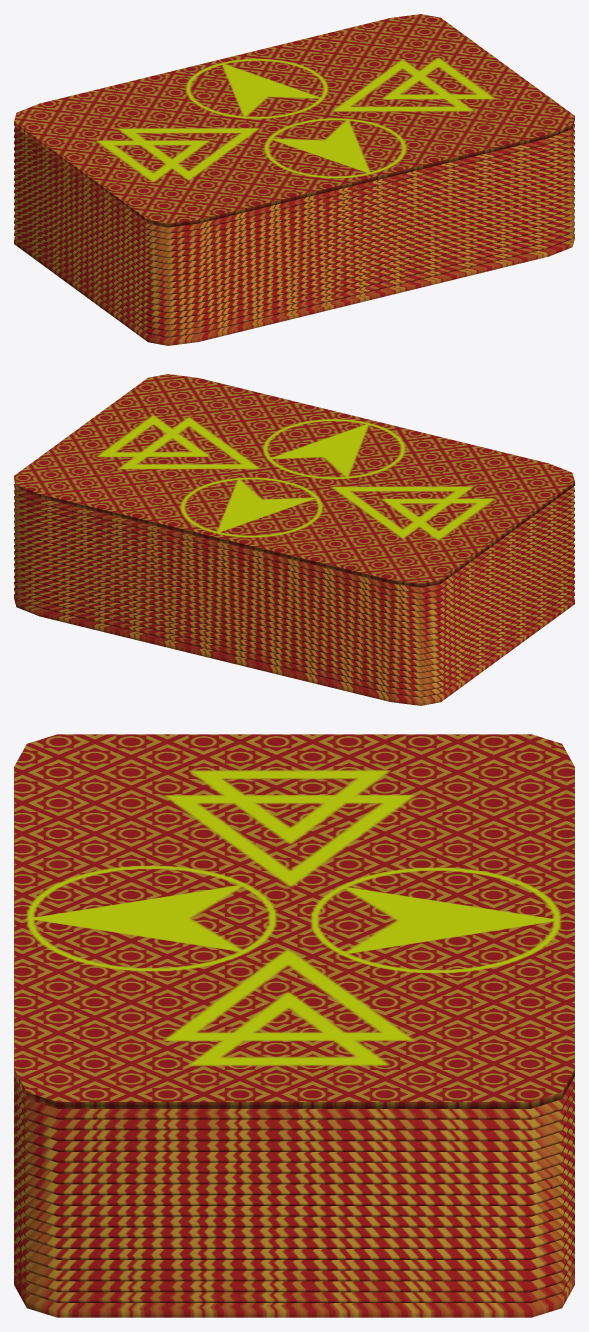
Rendered from CardDeck.fbx.
The picture shows the model from 3 angles, top to bottom: view 1: azimuth 30°, elevation 25°; view 2: azimuth 150°, elevation 25°; view 3: azimuth 270°, elevation 25°; orthographic projection. The views are drawn at different scales.
Parts seen in each view (by area): view 1: CardDeck; view 2: CardDeck; view 3: CardDeck.
Boxes of the visible parts, <box> form: CardDeck: <box>14,14,574,345</box>; CardDeck: <box>14,374,574,705</box>; CardDeck: <box>14,734,574,1317</box>.
Bounding box in the file's own units: 12.81 × 3.51 × 8.26.
